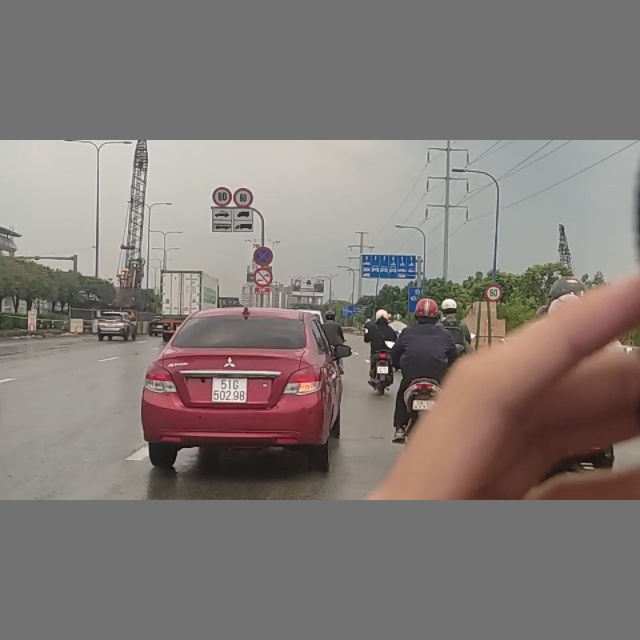P.127*60: (234, 188, 253, 207)
P.127*80: (211, 187, 232, 207)
P.130: (252, 245, 273, 265)
